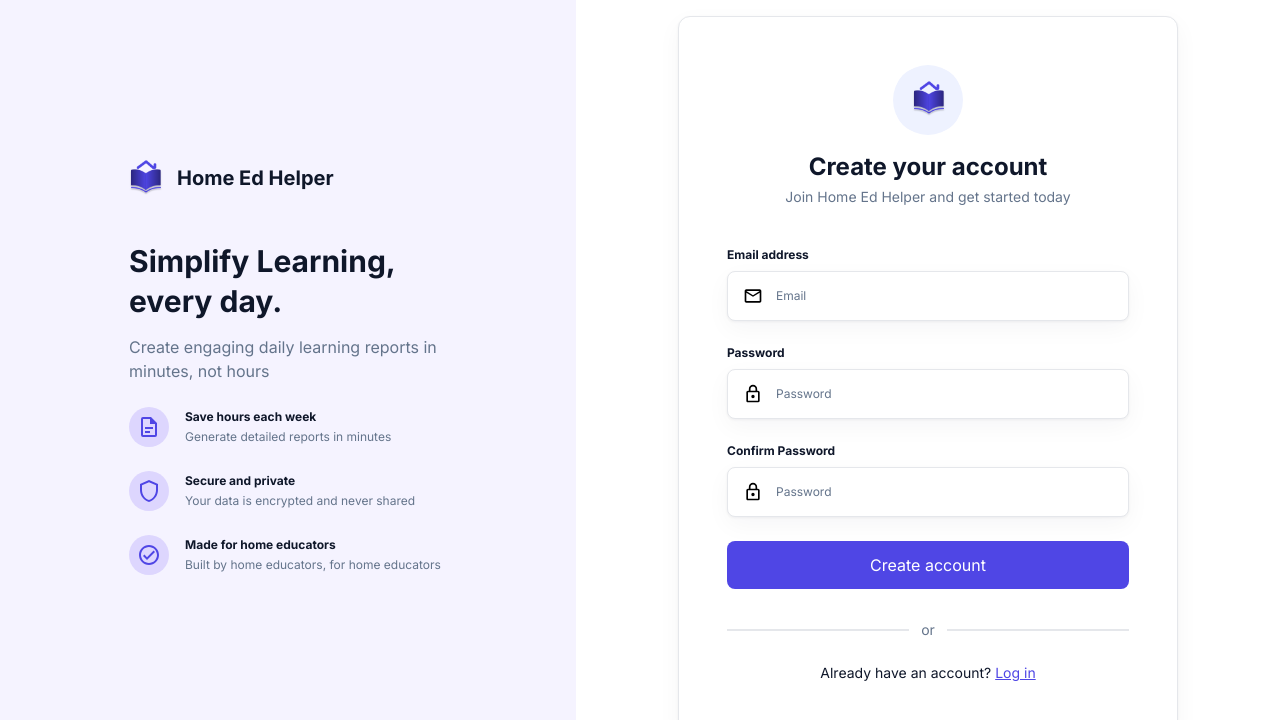
signup page › throws an error if passwords do not match
Type "email@example.com" into the field with placeholder "Email" at point(928, 296), box [727,271,1129,321]
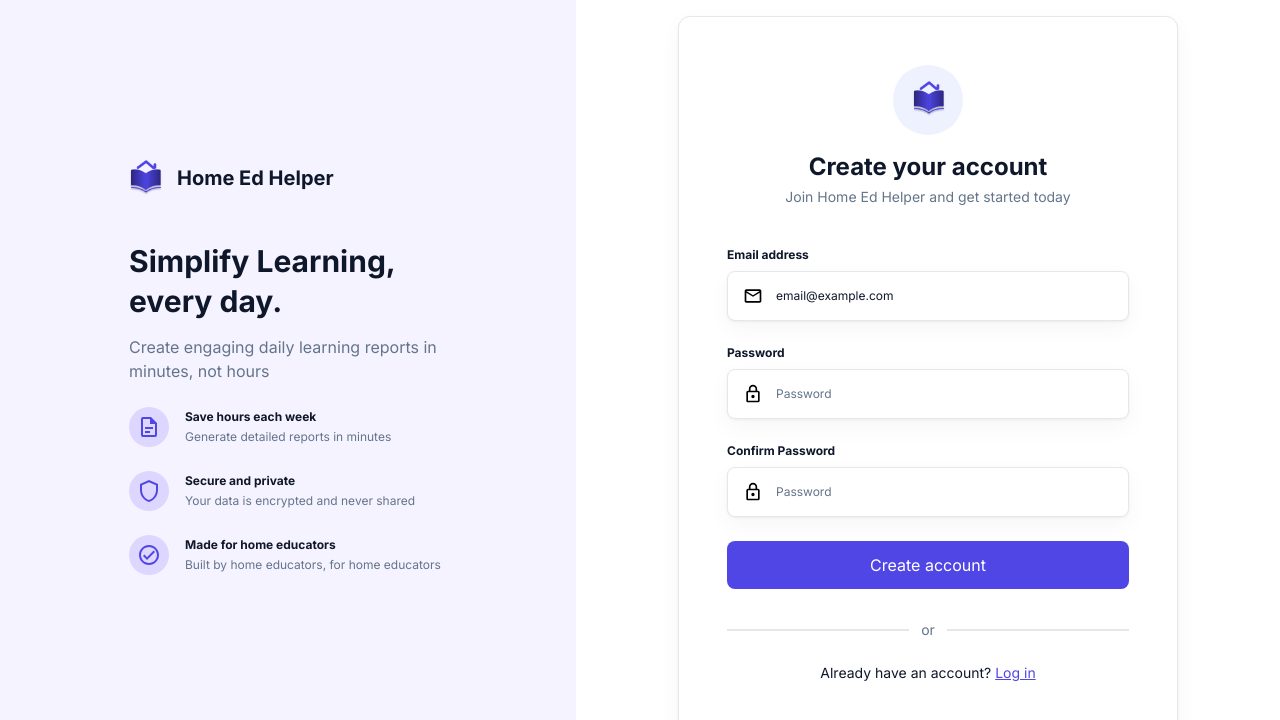
Type "password123" into the 1st password field with placeholder "Password" at point(928, 394), box [727,369,1129,419]
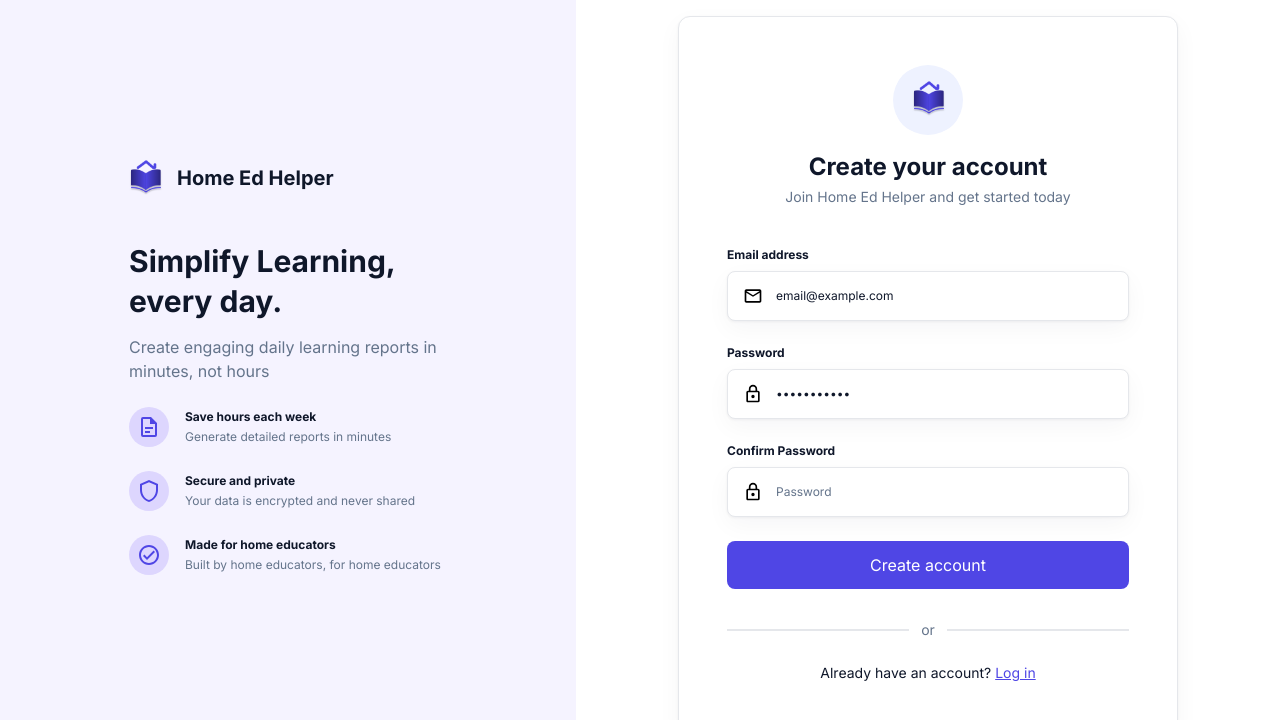
Type "password1234" into the password field with placeholder "Password" at point(928, 492), box [727,467,1129,517]
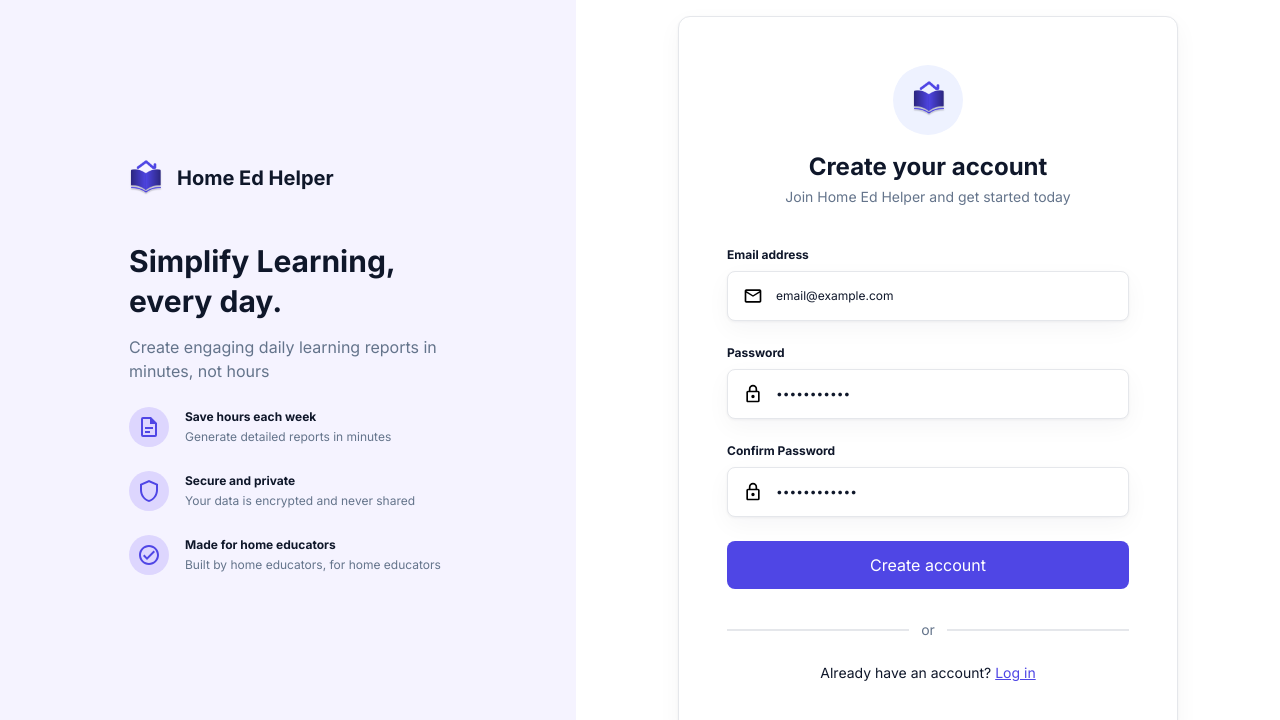
Click the button at point(928, 565), box [727,541,1129,589]
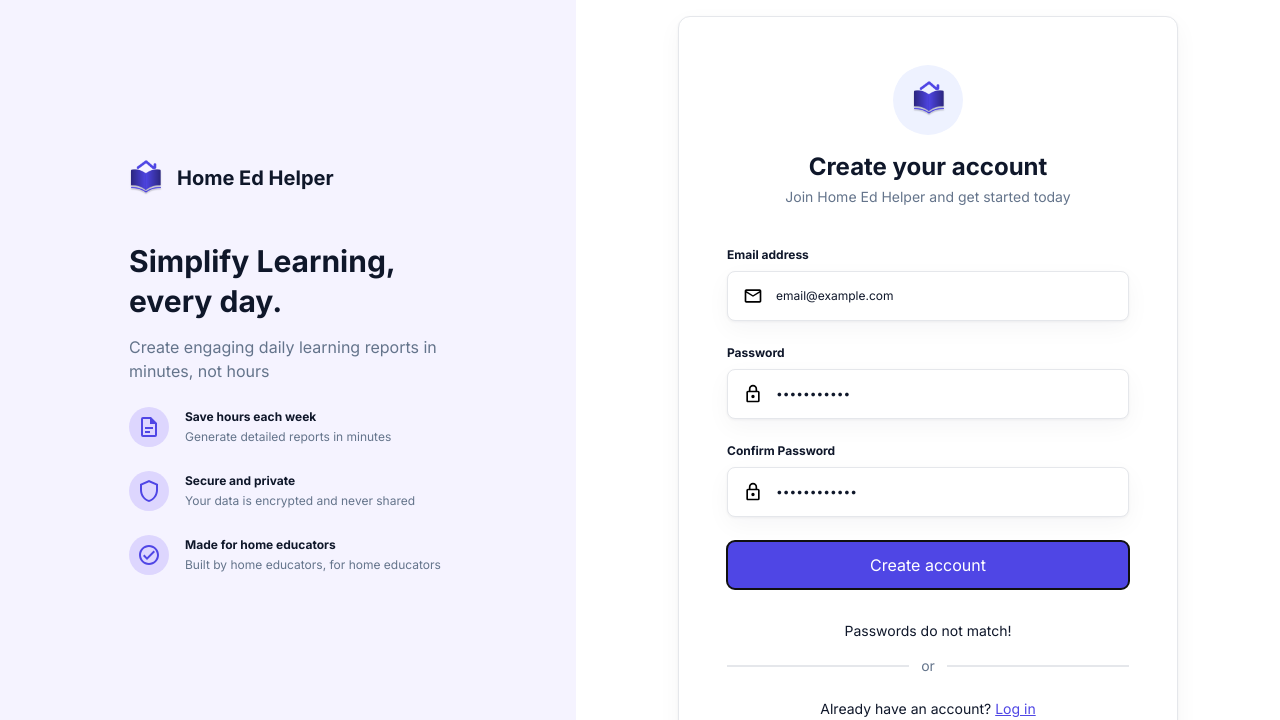
expect the text "Passwords do not match!" is shown: met, box [844,621,1012,641]
